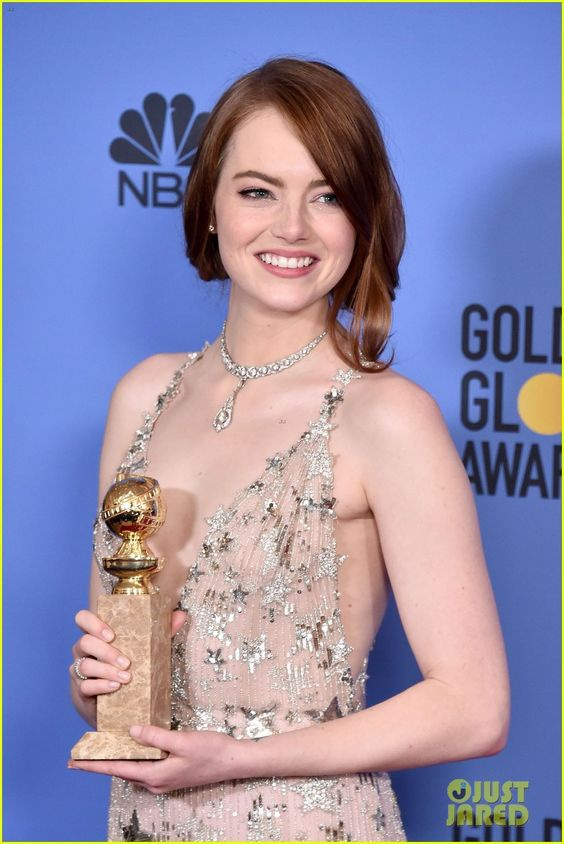hand: (72, 618, 179, 708)
